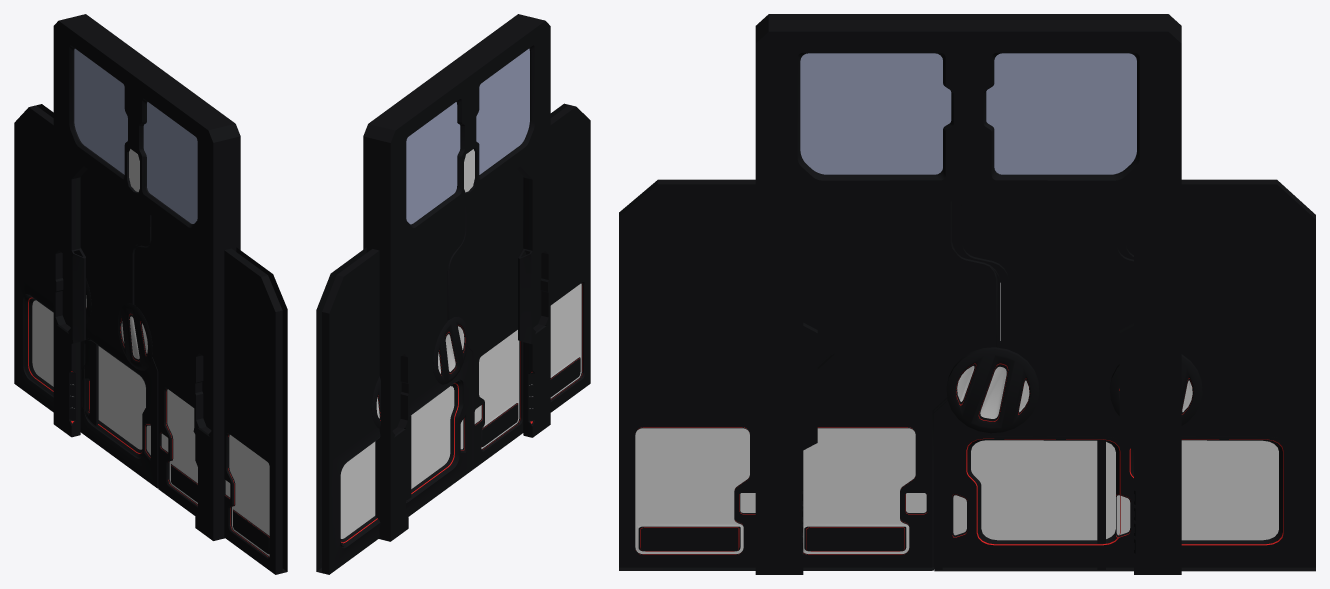
Rendered from DOOR_BIG.fbx.
3 renders of one model, left to right at view 1: azimuth 30°, elevation 25°; view 2: azimuth 150°, elevation 25°; view 3: azimuth 270°, elevation 25°, orthographic. The views are drawn at different scales.
Parts seen in each view (by area): view 1: DOOR_BIG_FRAME, DOOR_BIG_R_END, DOOR_BIG_L, DOOR_BIG_L_END, DOOR_BIG_R, DOOR_BIG_WINDOW, DOOR_BIG_CYLINDER; view 2: DOOR_BIG_FRAME, DOOR_BIG_L_END, DOOR_BIG_R, DOOR_BIG_L, DOOR_BIG_R_END, DOOR_BIG_WINDOW, DOOR_BIG_CYLINDER, DOOR_BIG_CYLINDER_END; view 3: DOOR_BIG_FRAME, DOOR_BIG_R_END, DOOR_BIG_L, DOOR_BIG_L_END, DOOR_BIG_R, DOOR_BIG_WINDOW, DOOR_BIG_CYLINDER, DOOR_BIG_CYLINDER_END.
Part boxes in pixels (left/top/right/bottom): DOOR_BIG_FRAME: left=53, top=14, right=240, bottom=540; DOOR_BIG_R_END: left=224, top=247, right=287, bottom=574; DOOR_BIG_L: left=80, top=169, right=158, bottom=488; DOOR_BIG_L_END: left=14, top=104, right=98, bottom=438; DOOR_BIG_R: left=134, top=216, right=197, bottom=516; DOOR_BIG_WINDOW: left=74, top=48, right=197, bottom=223; DOOR_BIG_CYLINDER: left=118, top=303, right=152, bottom=370; DOOR_BIG_FRAME: left=363, top=14, right=550, bottom=541; DOOR_BIG_L_END: left=316, top=247, right=411, bottom=574; DOOR_BIG_R: left=447, top=169, right=523, bottom=469; DOOR_BIG_L: left=406, top=207, right=472, bottom=516; DOOR_BIG_R_END: left=511, top=103, right=590, bottom=412; DOOR_BIG_WINDOW: left=406, top=48, right=529, bottom=224; DOOR_BIG_CYLINDER: left=433, top=316, right=467, bottom=384; DOOR_BIG_CYLINDER_END: left=371, top=376, right=380, bottom=428; DOOR_BIG_FRAME: left=755, top=14, right=1181, bottom=574; DOOR_BIG_R_END: left=619, top=179, right=834, bottom=570; DOOR_BIG_L: left=934, top=201, right=1133, bottom=571; DOOR_BIG_L_END: left=1097, top=179, right=1315, bottom=571; DOOR_BIG_R: left=803, top=201, right=999, bottom=570; DOOR_BIG_WINDOW: left=800, top=53, right=1136, bottom=174; DOOR_BIG_CYLINDER: left=946, top=341, right=1039, bottom=433; DOOR_BIG_CYLINDER_END: left=1109, top=354, right=1202, bottom=425.
Bounding box in the file's own units: 125 × 1778 × 2067.
